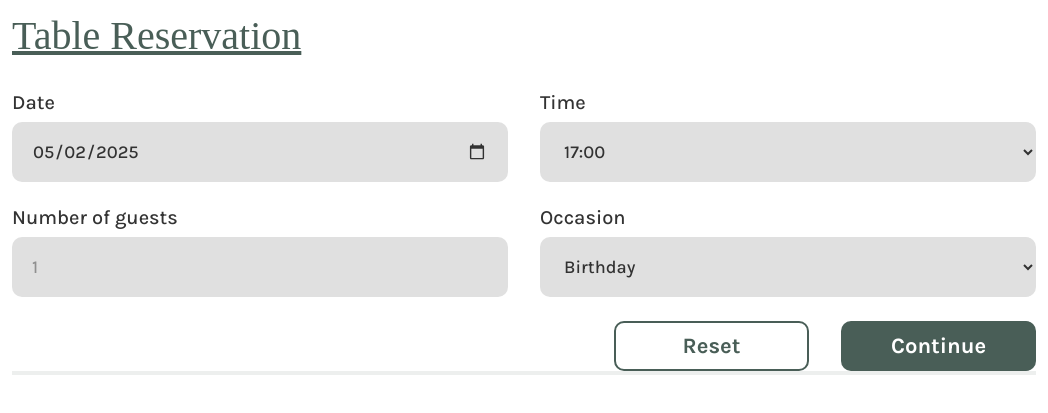
BookingForm - React validation › shows error message for invalid guest count (0)
Type "0" into the number field labelled "Number of guests" at (260, 267), box [12, 237, 508, 297]
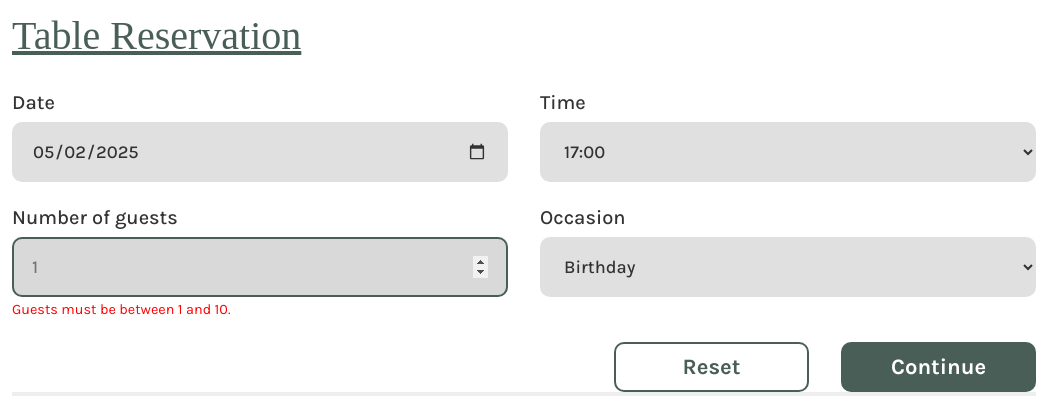
Result: the text "Guests must be between 1 and 10." is shown at [12, 301, 230, 318]
